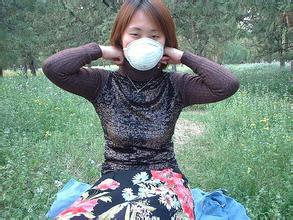OK: (124, 27, 169, 72)
